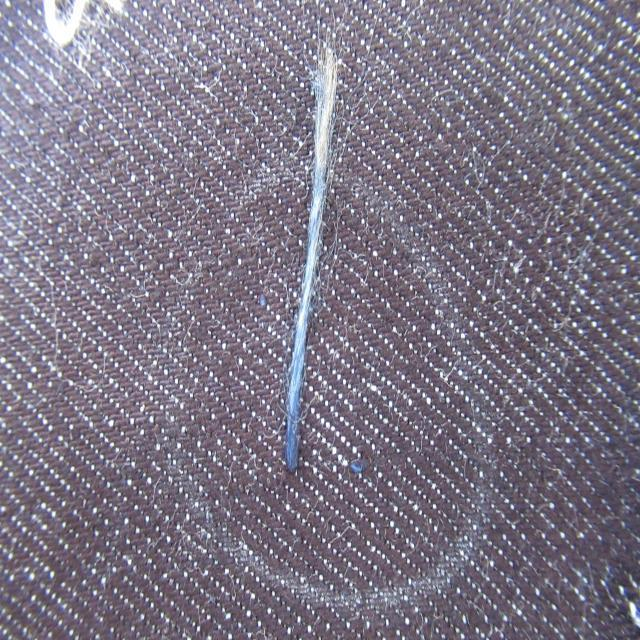defect: (279, 28, 341, 468), (36, 0, 97, 58)
